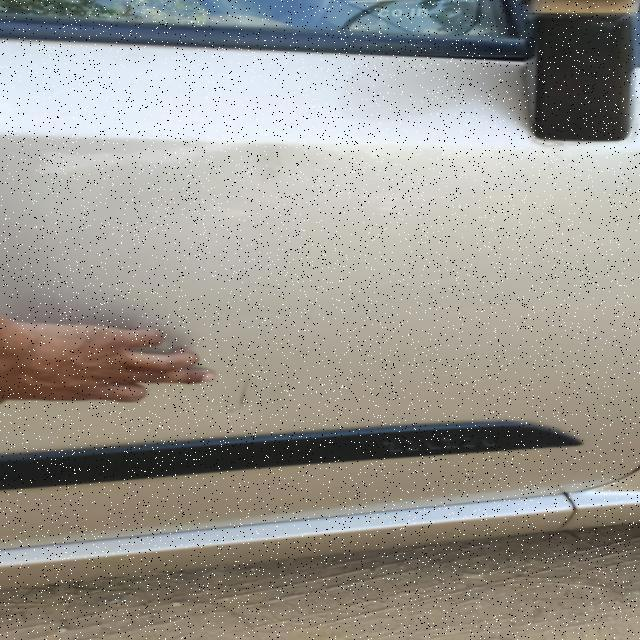fender: (0, 35, 639, 505)
